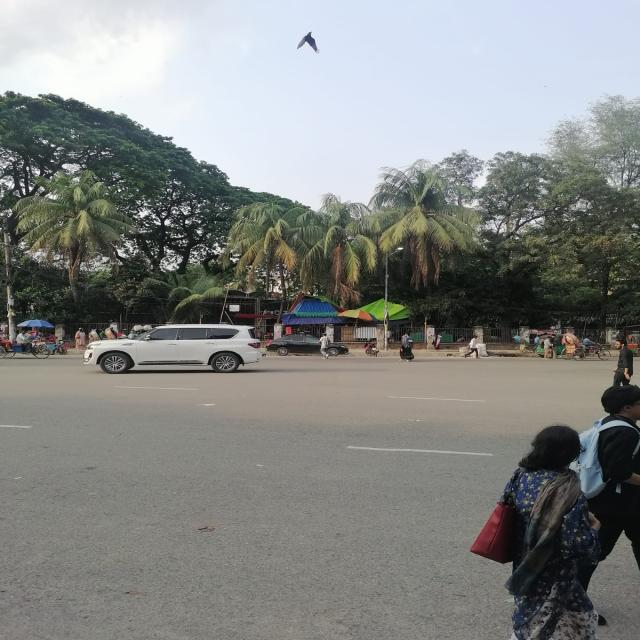person: (612, 338, 634, 387)
